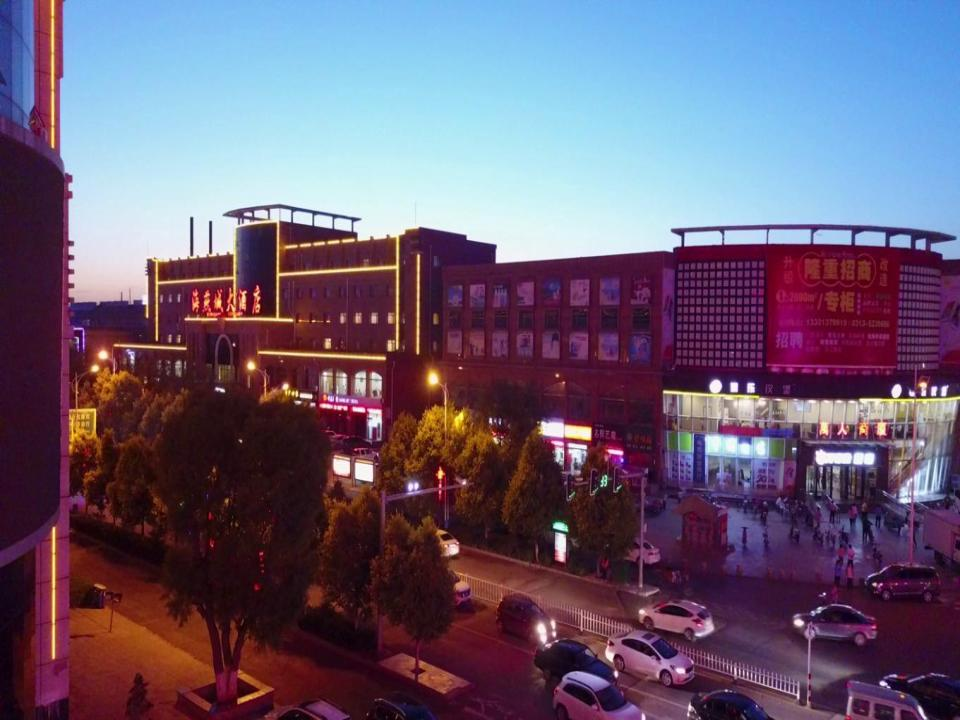car: (605, 628, 696, 688), (532, 637, 619, 693), (792, 602, 880, 648), (636, 598, 714, 642), (494, 593, 558, 643), (414, 566, 471, 609), (687, 690, 774, 718), (606, 534, 661, 568), (409, 525, 460, 560), (329, 432, 354, 448), (315, 429, 340, 445)
van: (550, 670, 650, 719), (864, 561, 943, 603), (343, 434, 372, 453), (352, 447, 380, 464)
